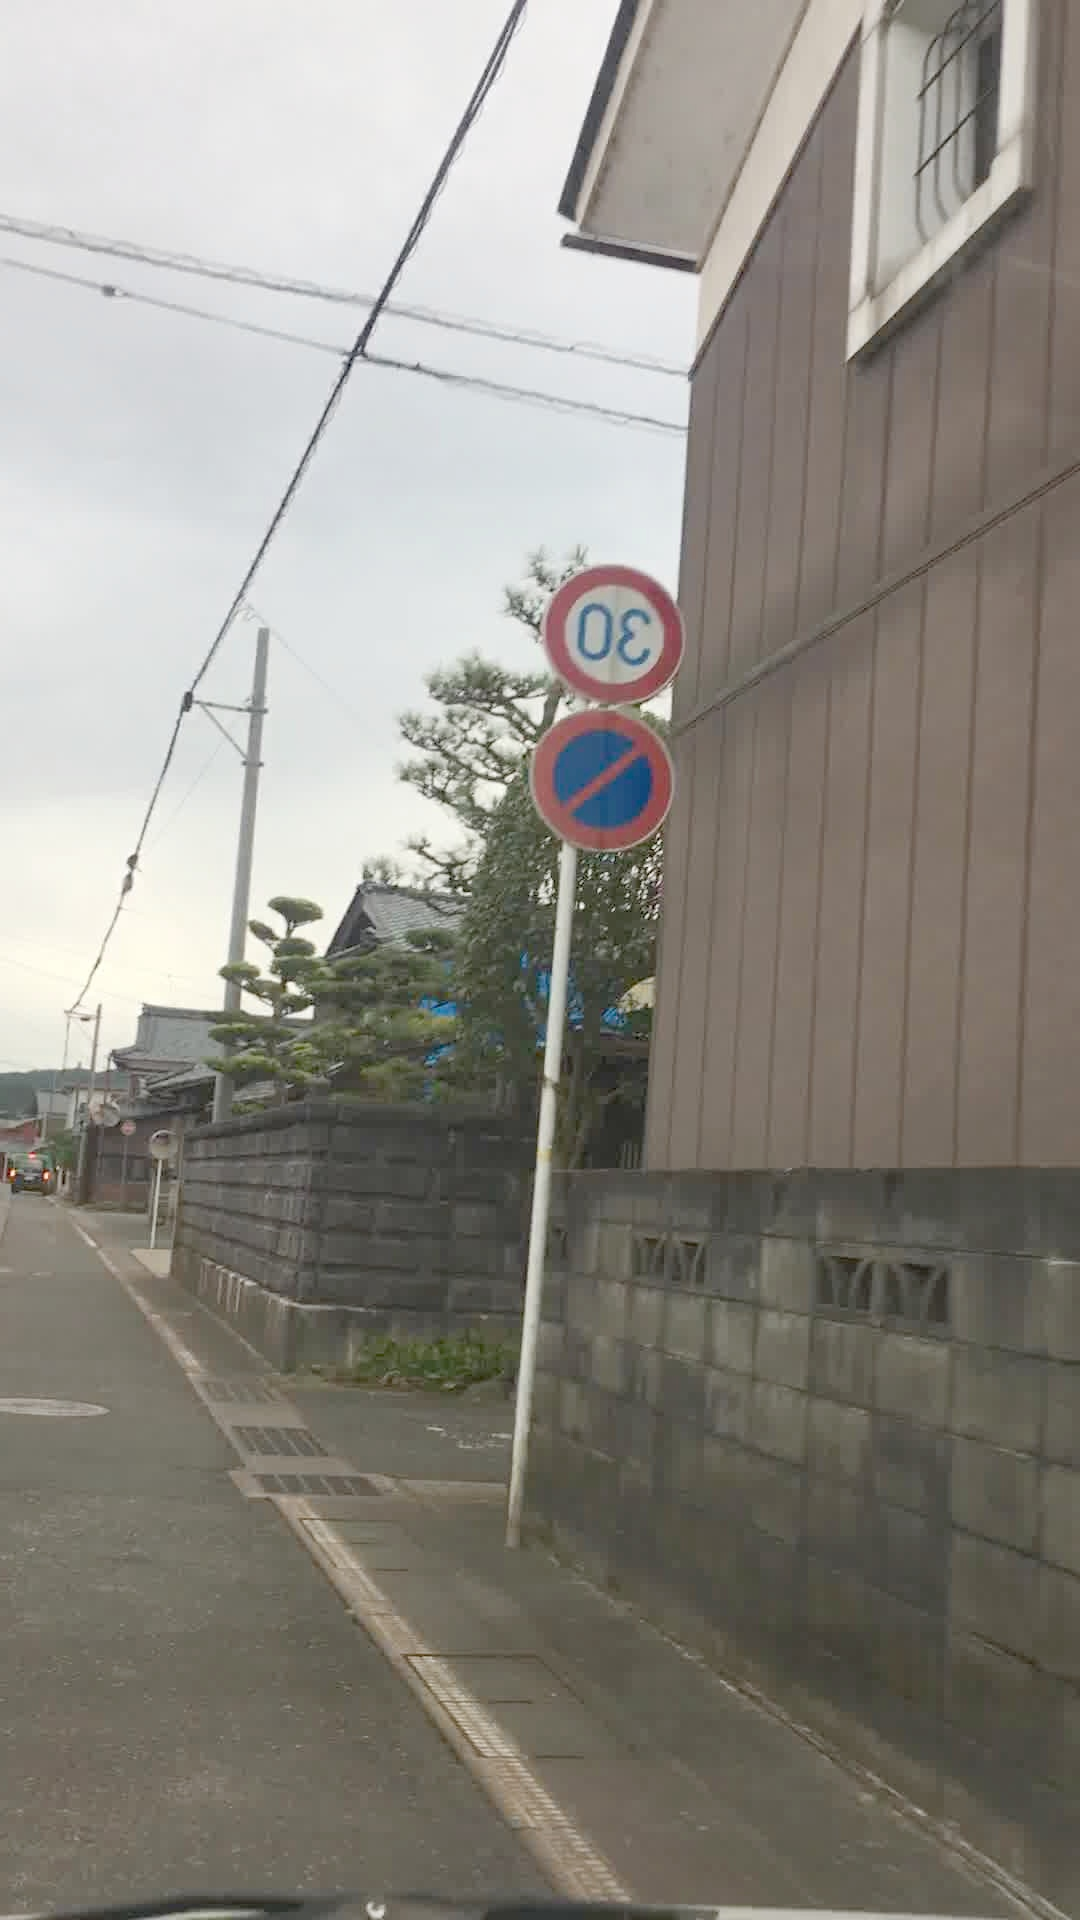Prohibition_sign: (522, 700, 688, 858)
Speed_sign: (535, 558, 709, 709)
